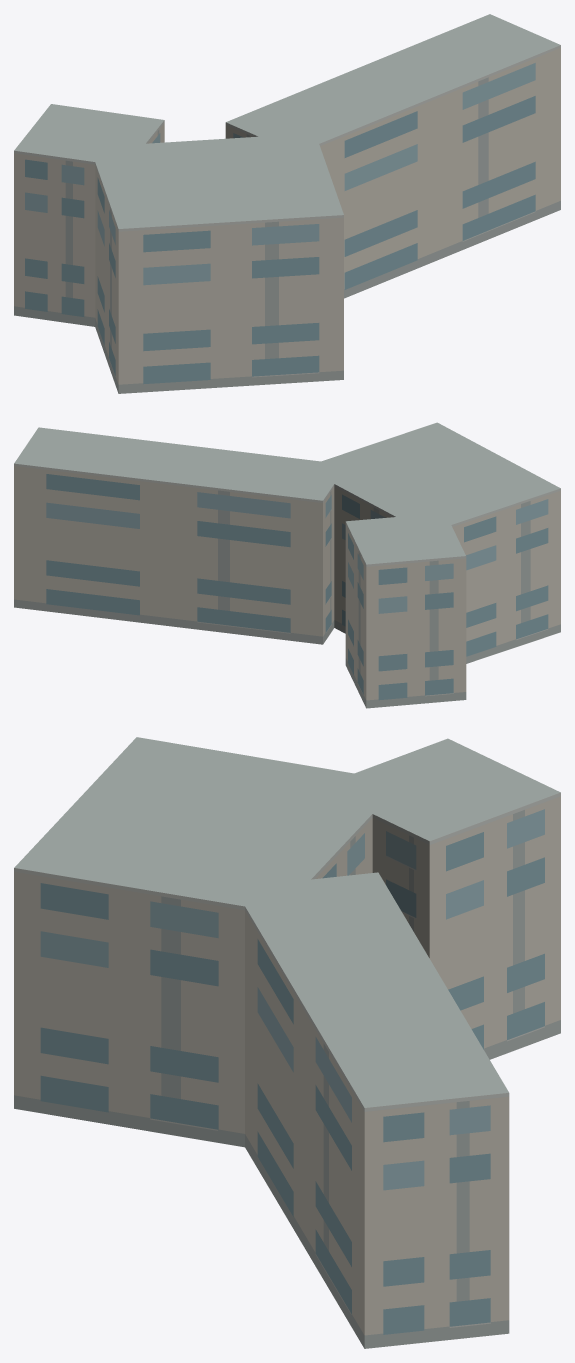
Rendered from residential-760f3610-4c4e-4e36-82fb-8be1c2e0fe53.glb.
3 views of the same model, one above another, from view 1: azimuth 30°, elevation 25°; view 2: azimuth 150°, elevation 25°; view 3: azimuth 270°, elevation 25° (orthographic). The views are drawn at different scales.
Visible parts, largest first — view 1: residential-760f3610-4c4e-4e36-82fb-8be1c2e0fe53.tmp; view 2: residential-760f3610-4c4e-4e36-82fb-8be1c2e0fe53.tmp; view 3: residential-760f3610-4c4e-4e36-82fb-8be1c2e0fe53.tmp.
Boxes of the visible parts, bbox=[...] form: residential-760f3610-4c4e-4e36-82fb-8be1c2e0fe53.tmp: bbox=[14, 14, 560, 393]; residential-760f3610-4c4e-4e36-82fb-8be1c2e0fe53.tmp: bbox=[14, 422, 560, 708]; residential-760f3610-4c4e-4e36-82fb-8be1c2e0fe53.tmp: bbox=[14, 737, 560, 1348].
Size of the model in its own units: 50.39 by 15.25 by 31.39.
